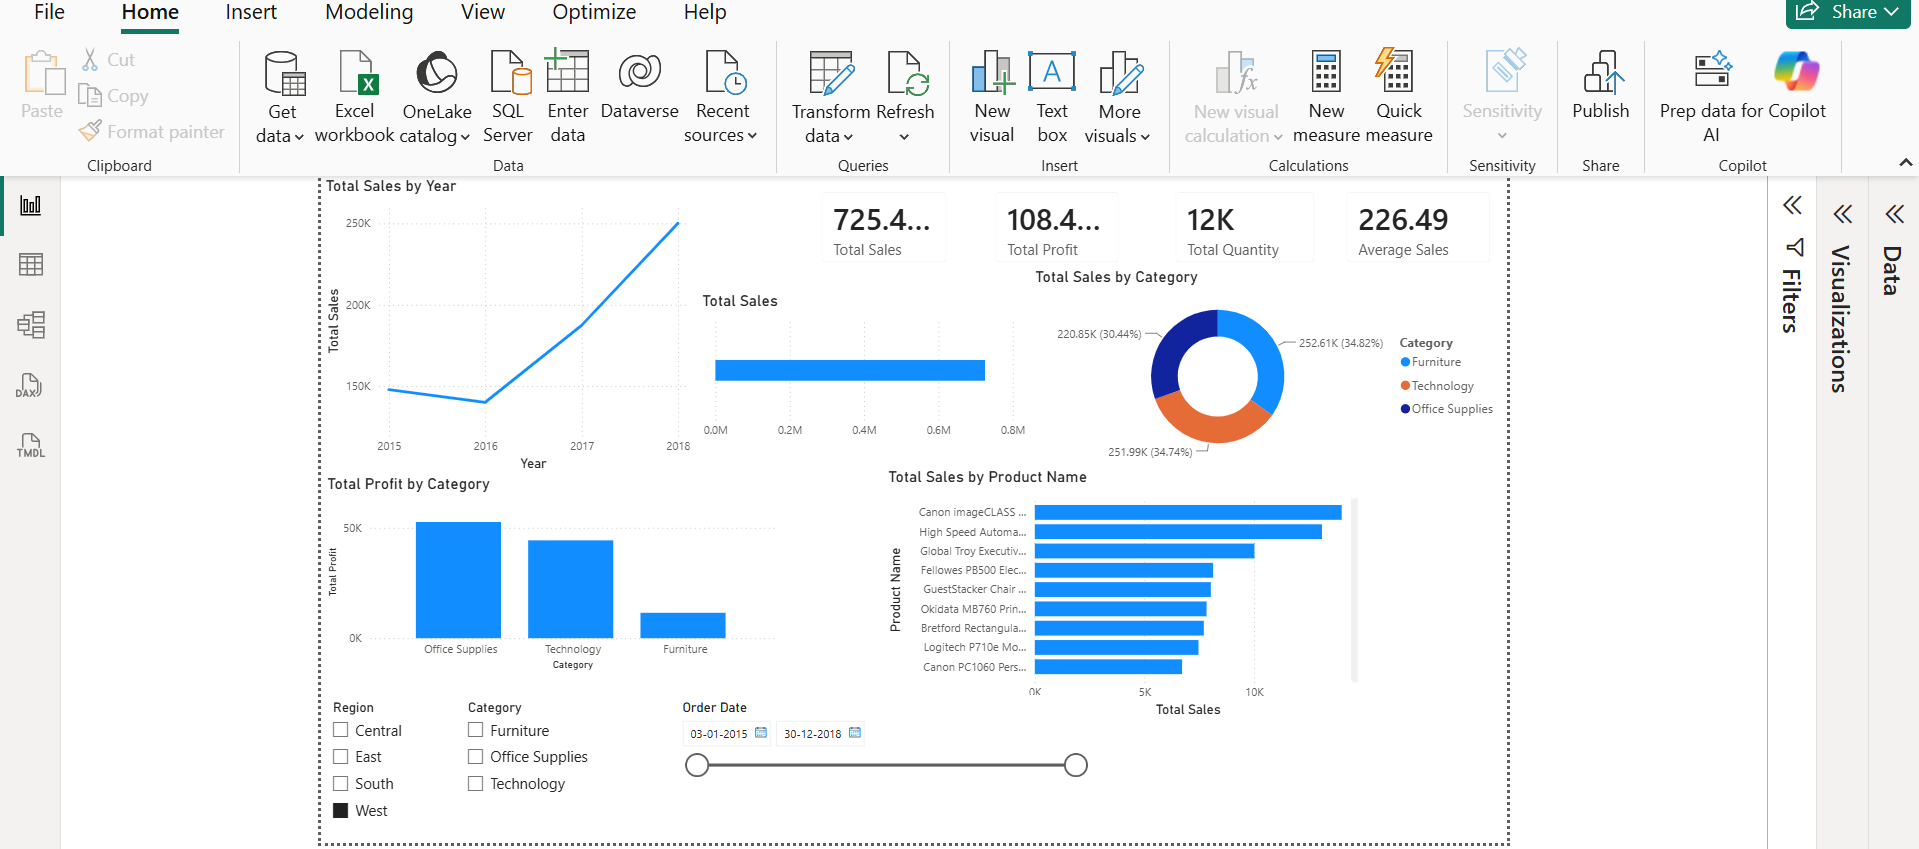

What the dashboard file says about the page in this screenshot:
{"tool":"powerbi","page":{"name":"Page 1","canvas":[1280,720],"ordinal":0},"visuals":[{"type":"cardVisual","fields":{"Data":["Orders.Total Sales"]},"box":[522.8,0,169.4,110.5],"z":0},{"type":"cardVisual","fields":{"Data":["Orders.Total Profit"]},"box":[710.6,0,167.5,110.5],"z":1},{"type":"cardVisual","fields":{"Data":["Orders.Total Quantity"]},"box":[905.7,0,184.1,110.5],"z":2},{"type":"lineChart","fields":{"Category":["Orders.Order Date.Variation.Date Hierarchy.Year","Orders.Order Date.Variation.Date Hierarchy.Quarter","Orders.Order Date.Variation.Date Hierarchy.Month","Orders.Order Date.Variation.Date Hierarchy.Day"],"Y":["Orders.Total Sales"]},"box":[0,0,403.1,322.2],"z":3},{"type":"donutChart","fields":{"Category":["Orders.Category"],"Y":["Orders.Total Sales"]},"box":[765.8,99.4,513.6,215.4],"z":4},{"type":"clusteredBarChart","fields":{"Y":["Orders.Total Sales"]},"box":[406.8,125.2,359,167.5],"z":5},{"type":"clusteredBarChart","fields":{"Category":["Orders.Product Name"],"Y":["Orders.Total Sales"]},"box":[607.5,314.8,517.3,274.3],"z":6},{"type":"columnChart","fields":{"Category":["Orders.Category"],"Y":["Orders.Total Profit"]},"box":[1.8,322.2,493.3,215.4],"z":7},{"type":"slicer","fields":{"Values":["Orders.Region"]},"box":[0,559.6,145.4,160.2],"z":8},{"type":"slicer","fields":{"Values":["Orders.Category"]},"box":[145.4,559.6,162,160.2],"z":9},{"type":"slicer","fields":{"Values":["Orders.Order Date"]},"box":[377.4,559.6,458.4,160.2],"z":10},{"type":"cardVisual","fields":{"Data":["Orders.Average Sales"]},"box":[1089.8,0,189.6,110.5],"z":11}]}

Visuals, with their boxes on the page's 1280x720 design canvas (x1, y1, x2, y2). These are canvas units, not pixel positions in the 1919x849 screenshot, which may show the page scaled, cropped or inside an application window:
cardVisual - Orders.Total Sales: box(523, 0, 692, 110)
cardVisual - Orders.Total Profit: box(711, 0, 878, 110)
cardVisual - Orders.Total Quantity: box(906, 0, 1090, 110)
lineChart - Orders.Order Date.Variation.Date Hierarchy.Year x Orders.Order Date.Variation.Date Hierarchy.Quarter: box(0, 0, 403, 322)
donutChart - Orders.Category x Orders.Total Sales: box(766, 99, 1279, 315)
clusteredBarChart - Orders.Total Sales: box(407, 125, 766, 293)
clusteredBarChart - Orders.Product Name x Orders.Total Sales: box(608, 315, 1125, 589)
columnChart - Orders.Category x Orders.Total Profit: box(2, 322, 495, 538)
slicer - Orders.Region: box(0, 560, 145, 720)
slicer - Orders.Category: box(145, 560, 307, 720)
slicer - Orders.Order Date: box(377, 560, 836, 720)
cardVisual - Orders.Average Sales: box(1090, 0, 1279, 110)
